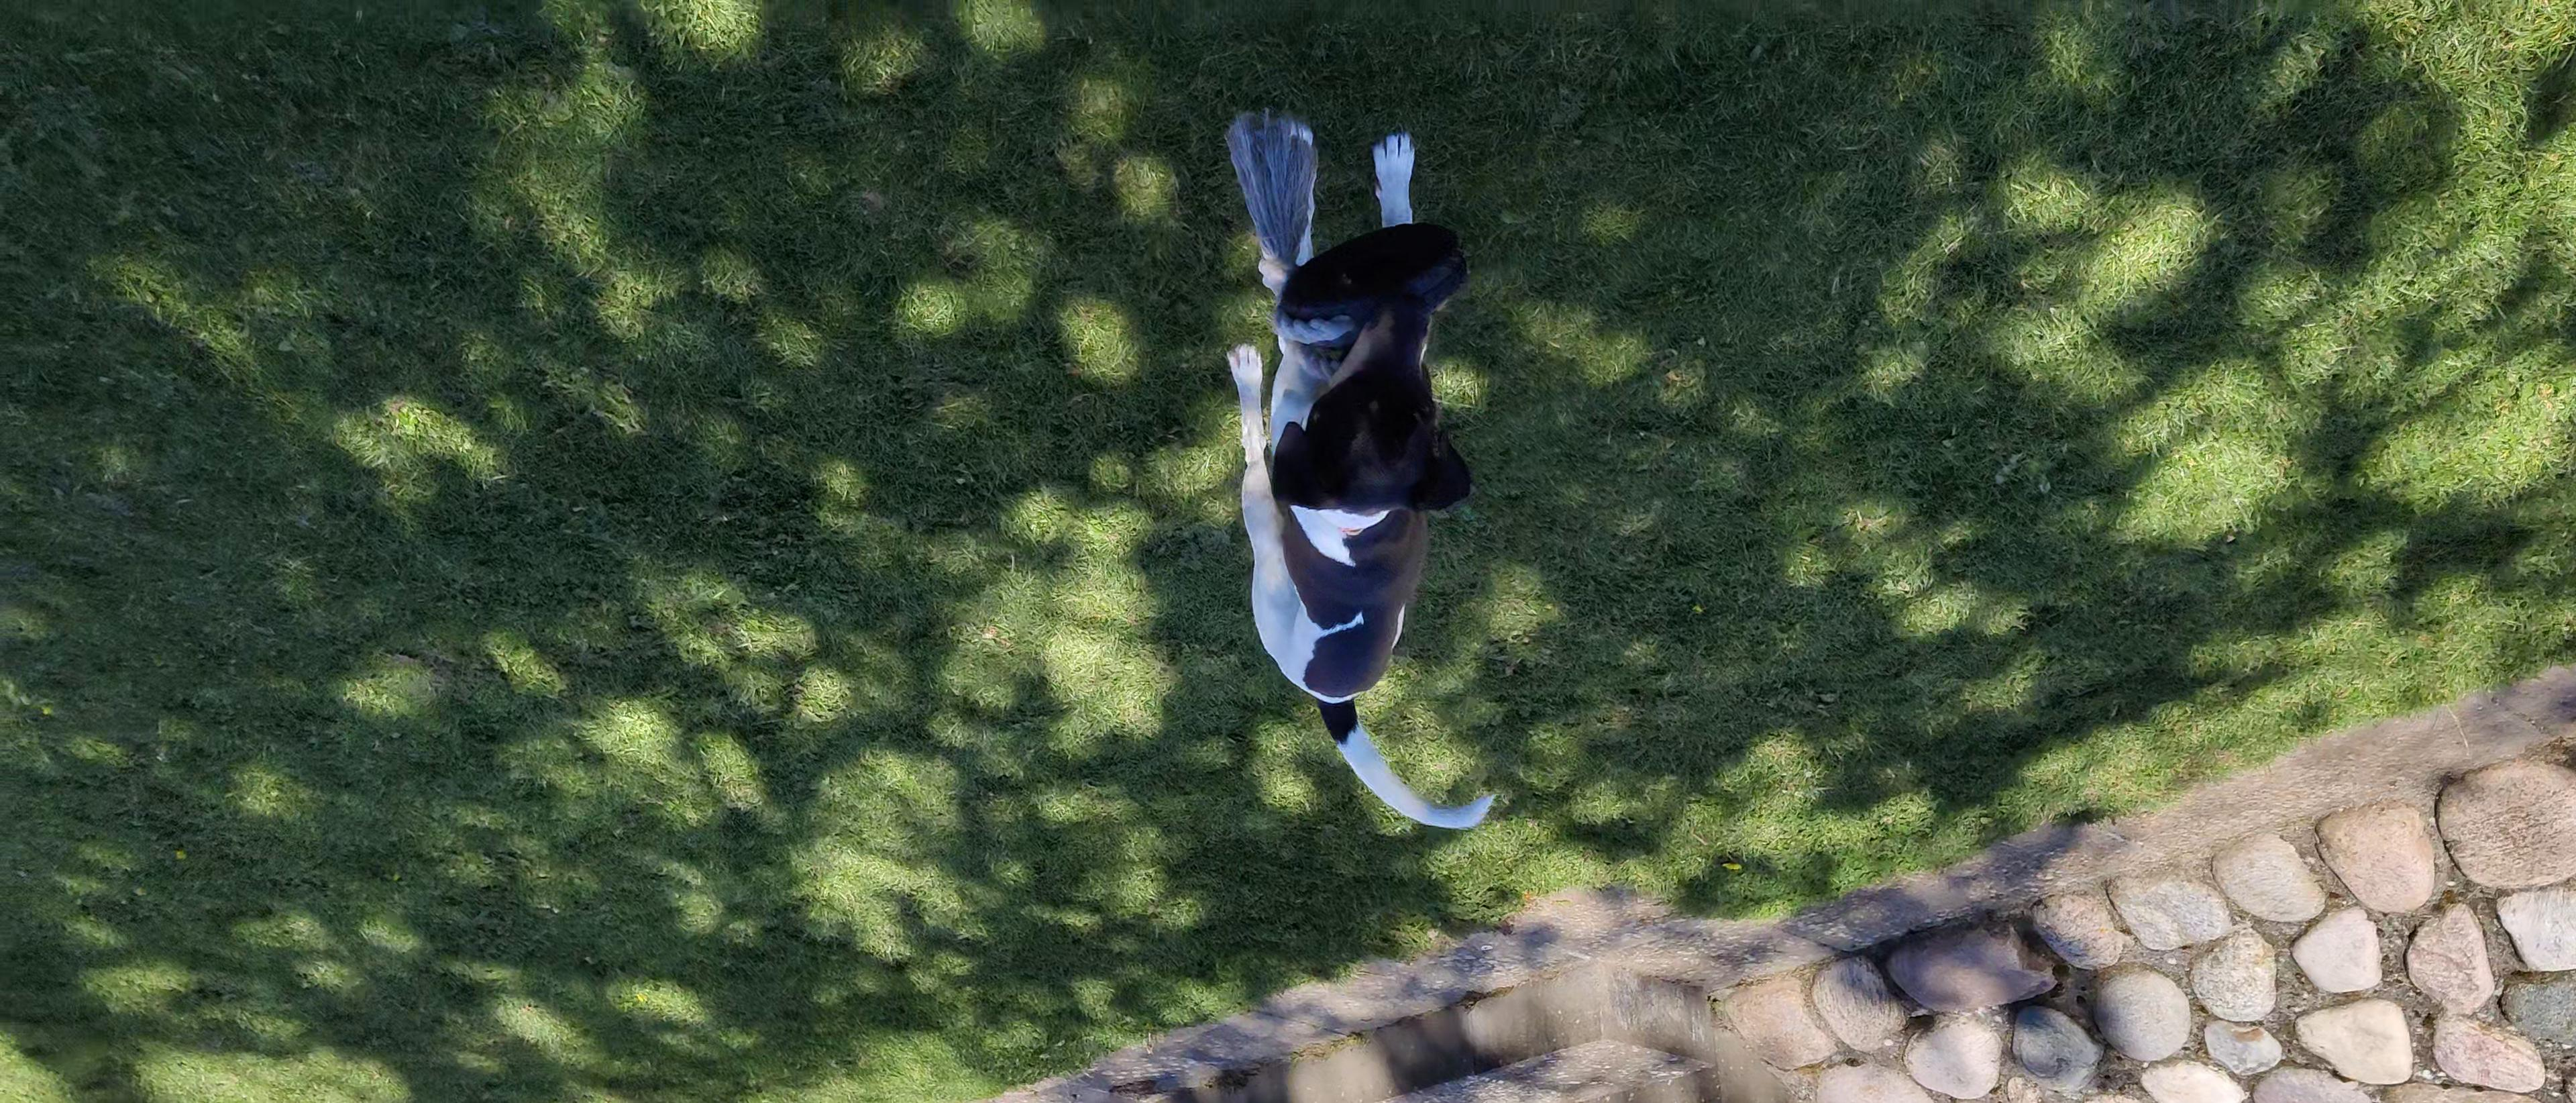Dog: (1224, 118, 1505, 837)
